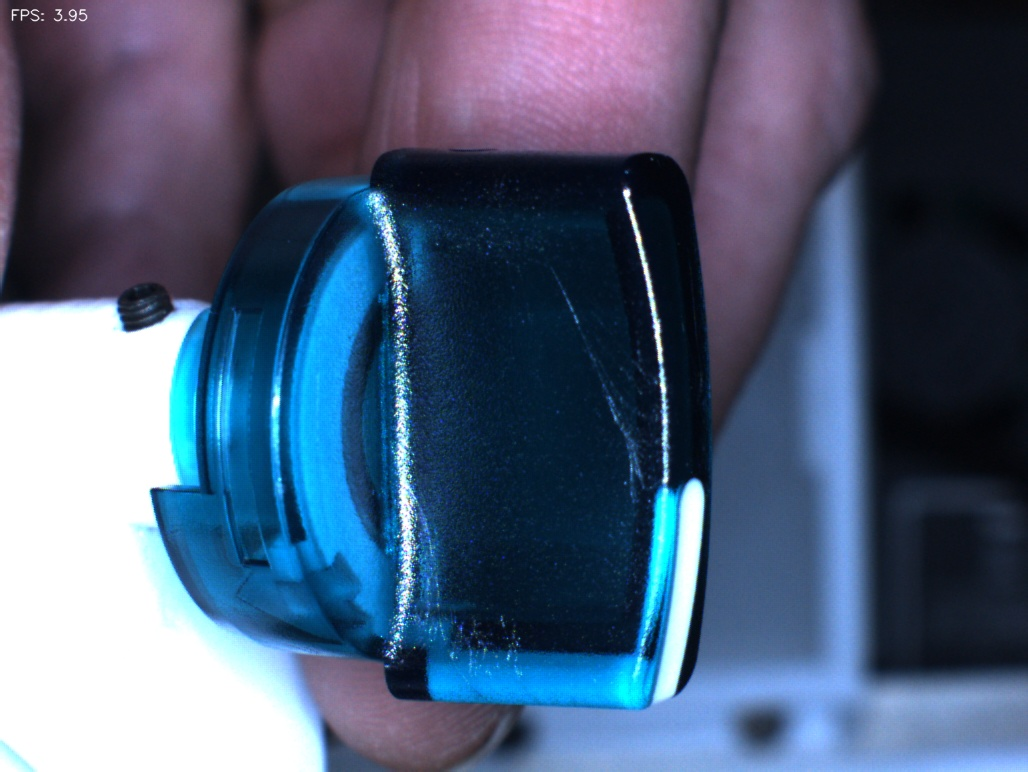Givrage: (555, 288, 671, 486)
